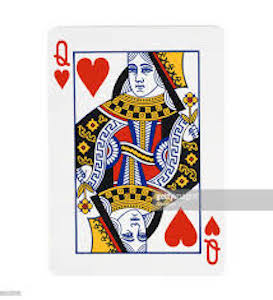QueenOfHearts: (43, 22, 233, 281)
